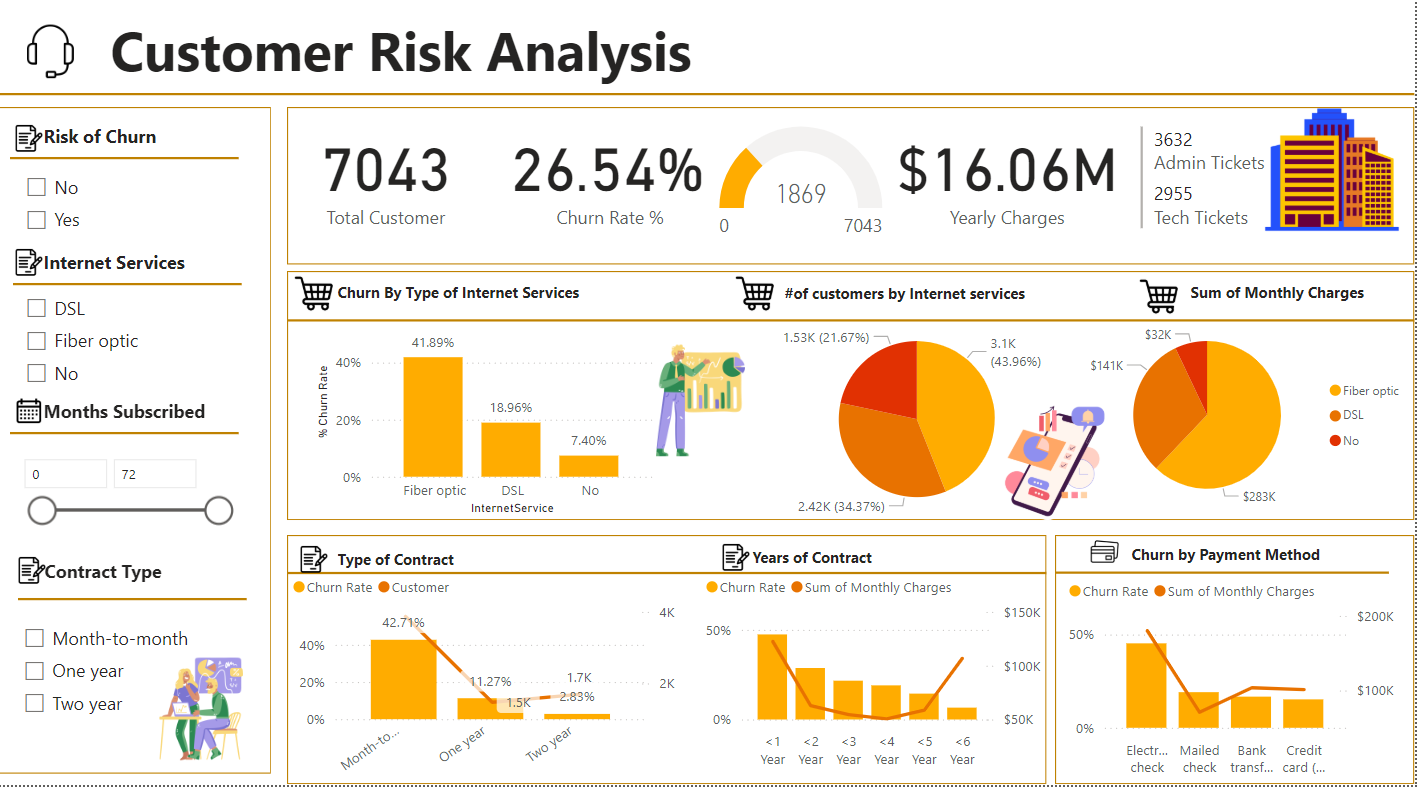

The dashboard page shown, as its layout file describes it:
{"tool":"powerbi","page":{"name":"Page 3","canvas":[1280,720],"ordinal":2},"visuals":[{"type":"shape","box":[8.7,113,247.3,597],"z":0},{"type":"shape","box":[270.5,113,1009.5,141],"z":1000},{"type":"shape","box":[270.5,259.9,1009.5,223.2],"z":2000},{"type":"shape","box":[270.5,496.5,680.1,223.2],"z":3000},{"type":"shape","box":[958.3,496.5,321.7,223.2],"z":4000},{"type":"slicer","fields":{"Values":["Churn.Churn"]},"box":[25.1,165.2,201.9,76.3],"z":5000},{"type":"slicer","fields":{"Values":["Churn.InternetService"]},"box":[25.1,273.4,201.9,108.2],"z":6000},{"type":"slicer","fields":{"Values":["Churn.tenure"]},"box":[22.2,418.3,207.7,108.2],"z":7000},{"type":"slicer","fields":{"Values":["Churn.Contract"]},"box":[23.2,569,201.9,108.2],"z":8000},{"type":"card","fields":{"Values":["CountNonNull(Churn.customerID)"]},"box":[287.9,122.7,143,100.5],"z":9000},{"type":"card","fields":{"Values":["Churn.% Churn Rate"]},"box":[464.7,122.7,185.5,100.5],"z":10000},{"type":"card","fields":{"Values":["Sum(Churn.TotalCharges)"]},"box":[808.6,117.9,213.5,109.2],"z":11000},{"type":"multiRowCard","fields":{"Values":["Sum(Churn.numAdminTickets)","Sum(Churn.numTechTickets)"]},"box":[1029.8,125.6,130.4,115.9],"z":12000},{"type":"columnChart","fields":{"Y":["Churn.% Churn Rate"],"Category":["Churn.InternetService"]},"box":[291.7,295.6,311.1,187.4],"z":13000},{"type":"pieChart","fields":{"Y":["CountNonNull(Churn.customerID)"],"Category":["Churn.InternetService"]},"box":[689.8,292.7,289.8,199],"z":14000},{"type":"pieChart","fields":{"Category":["Churn.InternetService"],"Y":["Sum(Churn.MonthlyCharges)"]},"box":[979.6,285.9,300.4,205.8],"z":15000},{"type":"lineStackedColumnComboChart","fields":{"Y":["Churn.% Churn Rate"],"Y2":["CountNonNull(Churn.customerID)"],"Category":["Churn.Contract"]},"box":[270.5,522.6,352.6,197.1],"z":16000},{"type":"lineStackedColumnComboChart","fields":{"Y":["Churn.% Churn Rate"],"Y2":["Sum(Churn.MonthlyCharges)"],"Category":["Churn.Tenure (In years)"]},"box":[640.5,522.6,310.1,189.3],"z":17000},{"type":"lineStackedColumnComboChart","fields":{"Y":["Churn.% Churn Rate"],"Y2":["Sum(Churn.MonthlyCharges)"],"Category":["Churn.PaymentMethod"]},"box":[965.1,526.5,301.4,193.2],"z":18000},{"type":"textbox","box":[107.2,23.2,582.5,78.2],"z":19000},{"type":"shape","box":[0,81.1,1280,39.6],"z":20000},{"type":"image","box":[29.9,33.8,58,58],"z":21000},{"type":"textbox","box":[47.3,122.7,125.6,35.7],"z":22000},{"type":"shape","box":[22.2,144.9,204.8,27],"z":23000},{"type":"shape","box":[25.1,257.9,204.8,27],"z":24000},{"type":"shape","box":[22.2,391.2,204.8,27],"z":25000},{"type":"shape","box":[29.9,540,204.8,27],"z":26000},{"type":"textbox","box":[47.3,235.7,150.7,35.7],"z":27000},{"type":"textbox","box":[47.3,369,168.1,35.7],"z":28000},{"type":"textbox","box":[48.3,512,168.1,35.7],"z":29000},{"type":"gauge","fields":{"Y":["Churn.Churn Count"],"MaxValue":["CountNonNull(Churn.customerID)"]},"box":[640.5,125.6,180.6,114],"z":30000},{"type":"textbox","box":[311.1,264.7,239.6,40.6],"z":31000},{"type":"textbox","box":[711,265.7,239.6,40.6],"z":32000},{"type":"textbox","box":[1074.2,264.7,183.5,40.6],"z":33000},{"type":"shape","box":[270.5,292.7,1009.5,22.2],"z":34000},{"type":"textbox","box":[311.1,504.3,239.6,35.7],"z":35000},{"type":"textbox","box":[682,502.3,126.6,29.9],"z":36000},{"type":"textbox","box":[1022.1,499.4,199,32.8],"z":37000},{"type":"shape","box":[270.5,517.8,680.1,25.1],"z":38000},{"type":"shape","box":[958.3,515.9,299.5,28],"z":39000},{"type":"image","box":[900.3,369,115.9,122.7],"z":40000},{"type":"image","box":[141,600.9,105.3,102.4],"z":41000},{"type":"image","box":[1134.1,98.5,145.9,141],"z":42000},{"type":"image","box":[584.5,320.7,111.1,110.1],"z":43000},{"type":"image","box":[22.2,120.8,33.8,39.6],"z":44000},{"type":"image","box":[22.2,231.8,33.8,39.6],"z":45000},{"type":"image","box":[25.1,508.1,33.8,39.6],"z":46000},{"type":"image","box":[277.3,497.5,33.8,39.6],"z":47000},{"type":"image","box":[655.9,496.5,33.8,39.6],"z":48000},{"type":"image","box":[23.2,369,31.9,31.9],"z":49000},{"type":"image","box":[270.5,257.9,47.3,44.4],"z":50000},{"type":"image","box":[665.6,257.9,47.3,44.4],"z":51000},{"type":"image","box":[1026.9,260.8,47.3,44.4],"z":52000},{"type":"image","box":[984.4,493.6,37.7,34.8],"z":53000}]}

Visuals, with their boxes in screenshot pixels (x1, y1, x2, y2), scaled from the page's 1280x720 canvas onto the 1419x788 screenshot:
shape: box=[10, 124, 284, 777]
shape: box=[300, 124, 1418, 278]
shape: box=[300, 284, 1418, 529]
shape: box=[300, 543, 1054, 787]
shape: box=[1062, 543, 1418, 787]
slicer - Churn.Churn: box=[28, 181, 252, 264]
slicer - Churn.InternetService: box=[28, 299, 252, 418]
slicer - Churn.tenure: box=[25, 458, 255, 576]
slicer - Churn.Contract: box=[26, 623, 250, 741]
card - CountNonNull(Churn.customerID): box=[319, 134, 478, 244]
card - Churn.% Churn Rate: box=[515, 134, 721, 244]
card - Sum(Churn.TotalCharges): box=[896, 129, 1133, 249]
multiRowCard - Sum(Churn.numAdminTickets) x Sum(Churn.numTechTickets): box=[1142, 137, 1286, 264]
columnChart - Churn.% Churn Rate x Churn.InternetService: box=[323, 324, 668, 529]
pieChart - CountNonNull(Churn.customerID) x Churn.InternetService: box=[765, 320, 1086, 538]
pieChart - Churn.InternetService x Sum(Churn.MonthlyCharges): box=[1086, 313, 1418, 538]
lineStackedColumnComboChart - Churn.% Churn Rate x CountNonNull(Churn.customerID): box=[300, 572, 691, 787]
lineStackedColumnComboChart - Churn.% Churn Rate x Sum(Churn.MonthlyCharges): box=[710, 572, 1054, 779]
lineStackedColumnComboChart - Churn.% Churn Rate x Sum(Churn.MonthlyCharges): box=[1070, 576, 1404, 787]
textbox: box=[119, 25, 765, 111]
shape: box=[0, 89, 1418, 132]
image: box=[33, 37, 97, 100]
textbox: box=[52, 134, 192, 173]
shape: box=[25, 159, 252, 188]
shape: box=[28, 282, 255, 312]
shape: box=[25, 428, 252, 458]
shape: box=[33, 591, 260, 621]
textbox: box=[52, 258, 220, 297]
textbox: box=[52, 404, 239, 443]
textbox: box=[54, 560, 240, 599]
gauge - Churn.Churn Count x CountNonNull(Churn.customerID): box=[710, 137, 910, 262]
textbox: box=[345, 290, 611, 334]
textbox: box=[788, 291, 1054, 335]
textbox: box=[1191, 290, 1394, 334]
shape: box=[300, 320, 1418, 345]
textbox: box=[345, 552, 611, 591]
textbox: box=[756, 550, 896, 582]
textbox: box=[1133, 547, 1354, 582]
shape: box=[300, 567, 1054, 594]
shape: box=[1062, 565, 1394, 595]
image: box=[998, 404, 1127, 538]
image: box=[156, 658, 273, 770]
image: box=[1257, 108, 1418, 262]
image: box=[648, 351, 771, 471]
image: box=[25, 132, 62, 176]
image: box=[25, 254, 62, 297]
image: box=[28, 556, 65, 599]
image: box=[307, 544, 345, 588]
image: box=[727, 543, 765, 587]
image: box=[26, 404, 61, 439]
image: box=[300, 282, 352, 331]
image: box=[738, 282, 790, 331]
image: box=[1138, 285, 1191, 334]
image: box=[1091, 540, 1133, 578]
